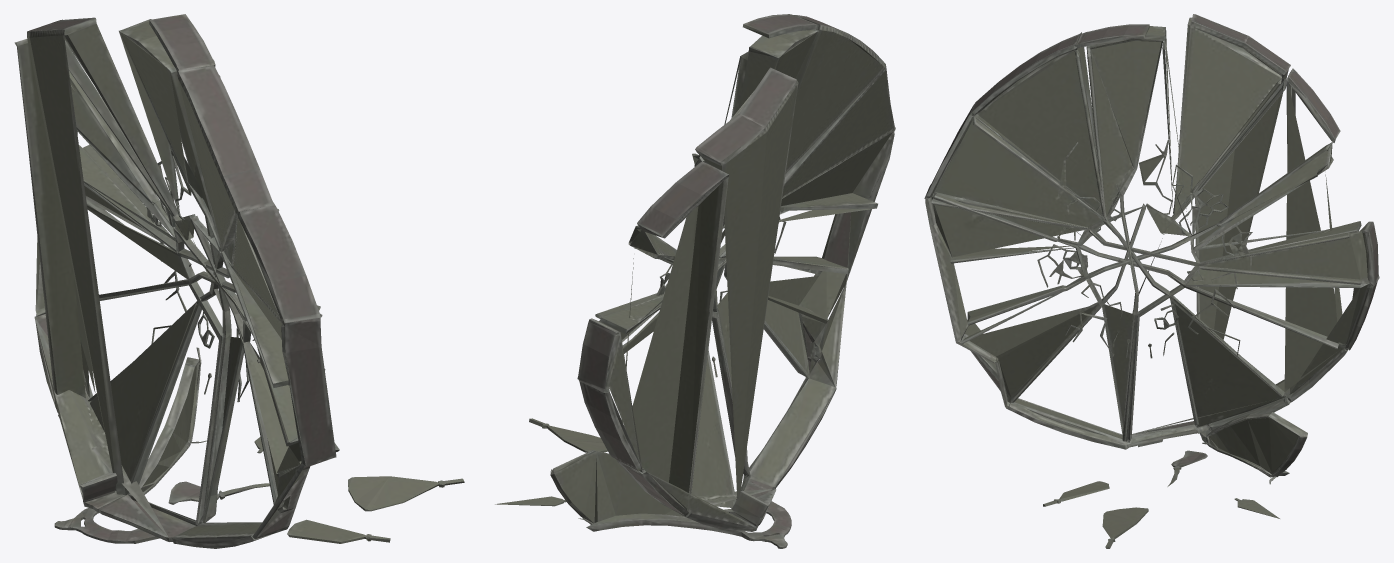
Rendered from broken mirror.glb.
3 views of the same model, side by side, from view 1: azimuth 30°, elevation 25°; view 2: azimuth 150°, elevation 25°; view 3: azimuth 270°, elevation 25° (orthographic). The views are drawn at different scales.
Parts seen in each view (by area): view 1: tripo_node_9f51b048-f924-4f78-b5dc-3f0d88597edd; view 2: tripo_node_9f51b048-f924-4f78-b5dc-3f0d88597edd; view 3: tripo_node_9f51b048-f924-4f78-b5dc-3f0d88597edd.
Part boxes in pixels (bbox=[...]): tripo_node_9f51b048-f924-4f78-b5dc-3f0d88597edd: bbox=[14, 14, 464, 548]; tripo_node_9f51b048-f924-4f78-b5dc-3f0d88597edd: bbox=[495, 14, 895, 548]; tripo_node_9f51b048-f924-4f78-b5dc-3f0d88597edd: bbox=[924, 14, 1379, 548].
Bounding box in the file's own units: 0.6934 × 0.998 × 0.9824.
1 material, 1 textured.
